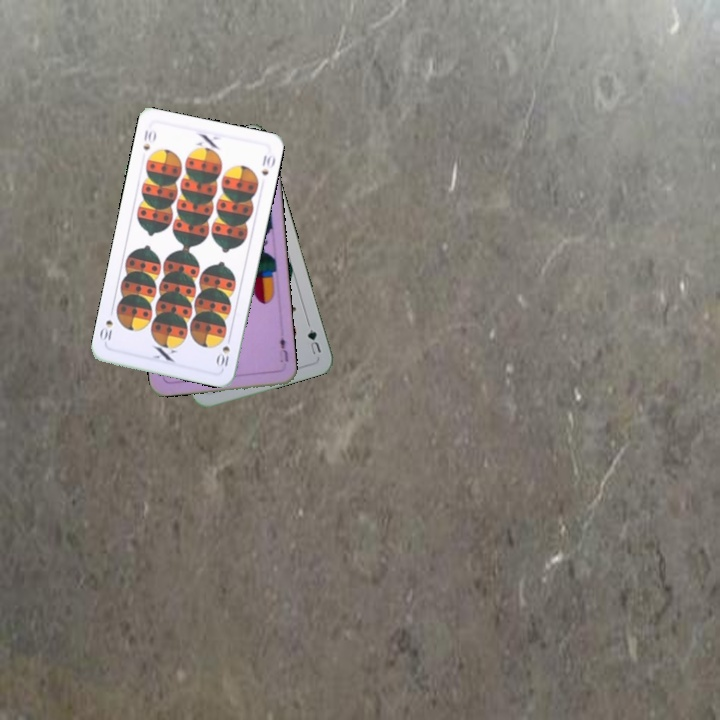EU: (276, 333, 291, 364)
GU: (303, 325, 324, 358)
S10: (213, 331, 234, 372), (139, 125, 159, 153)
